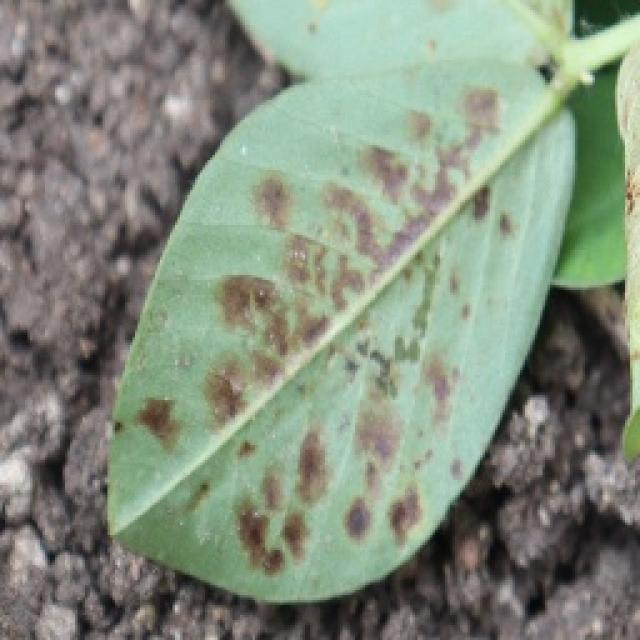Whitefly: (111, 0, 574, 593)
